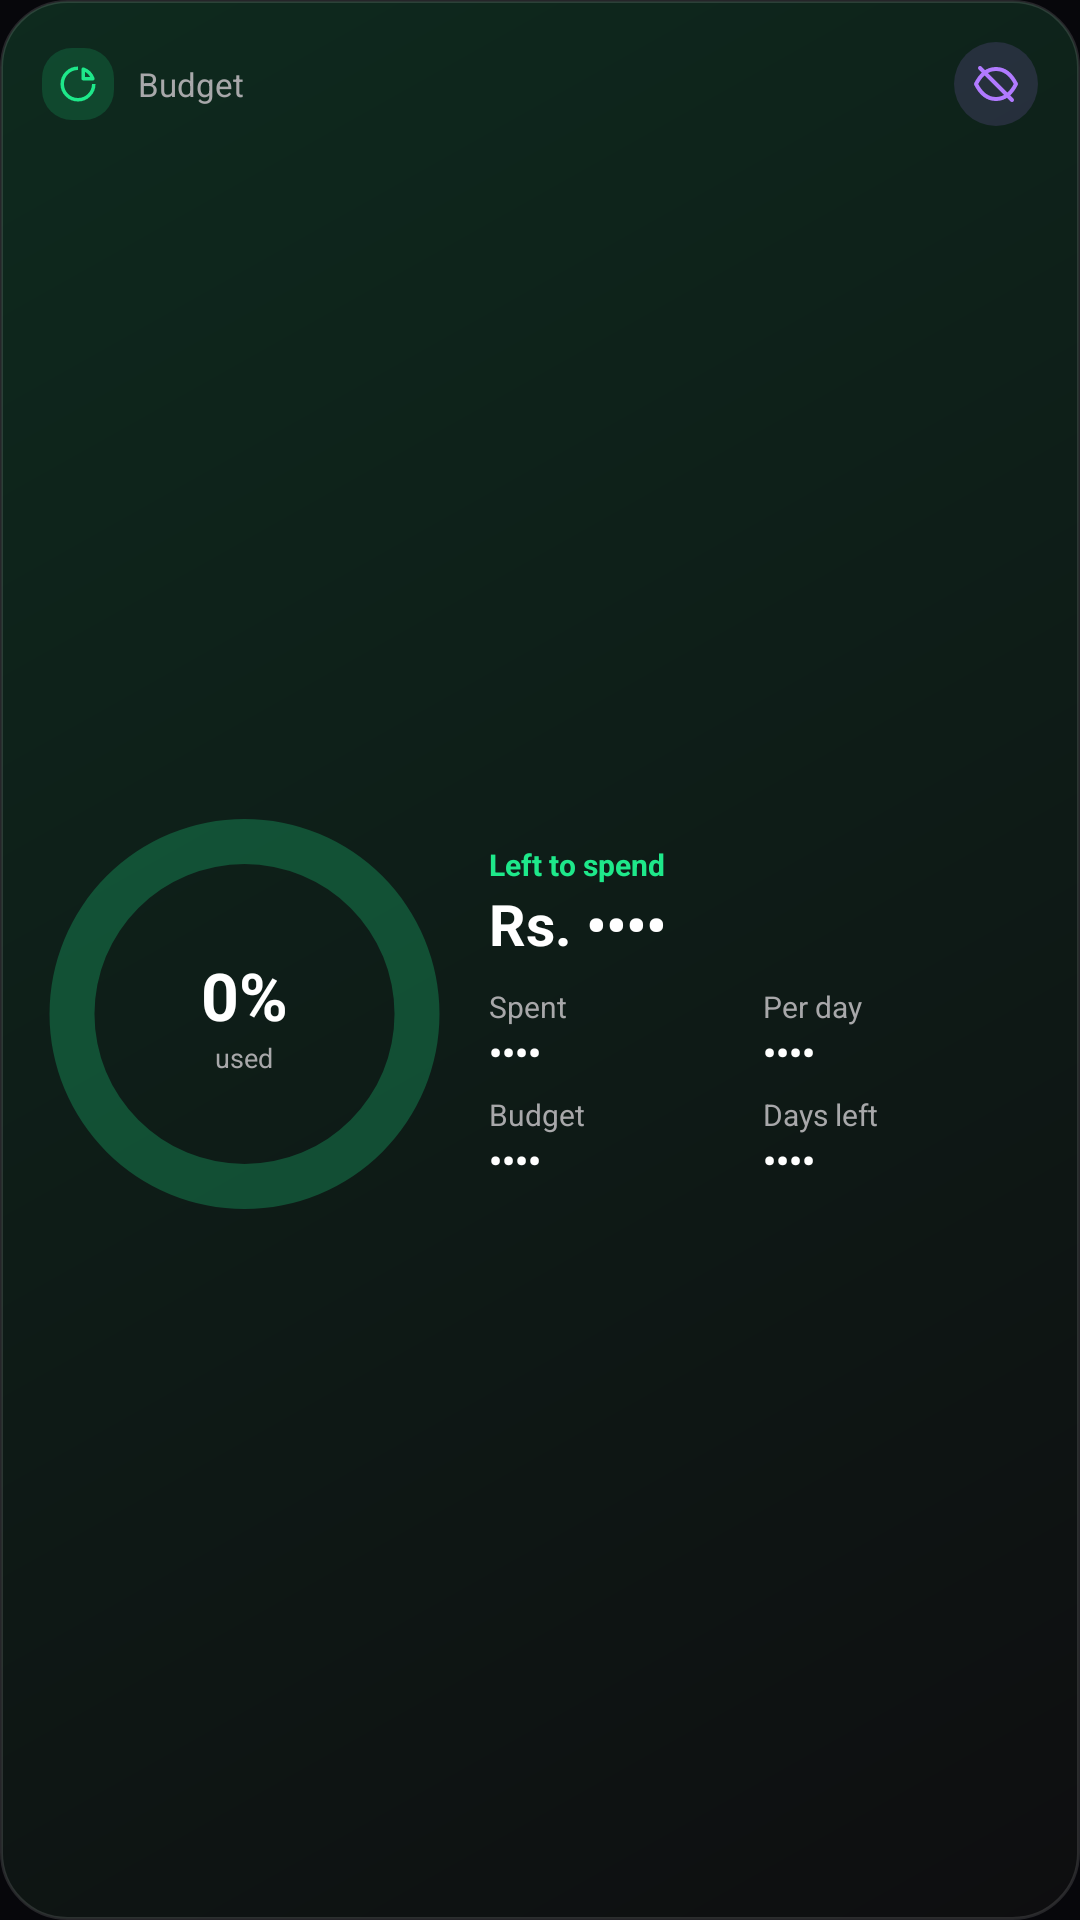

Icon click points for this 1080 × 1920 phone screenshot, format point (x, y):
Show amounts: point (996, 84)
